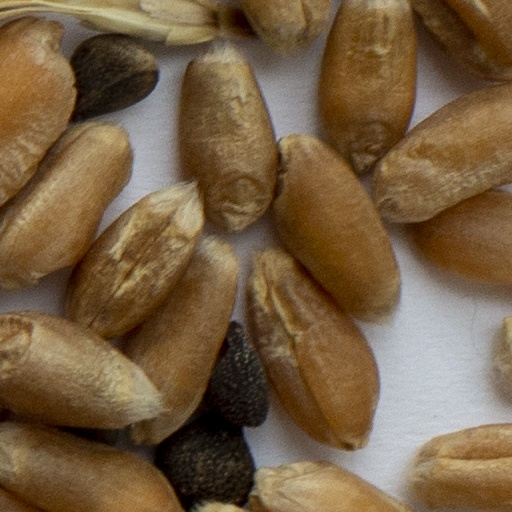Convolvulus-poly: (159, 412, 252, 504), (72, 35, 156, 118), (208, 320, 266, 426)
